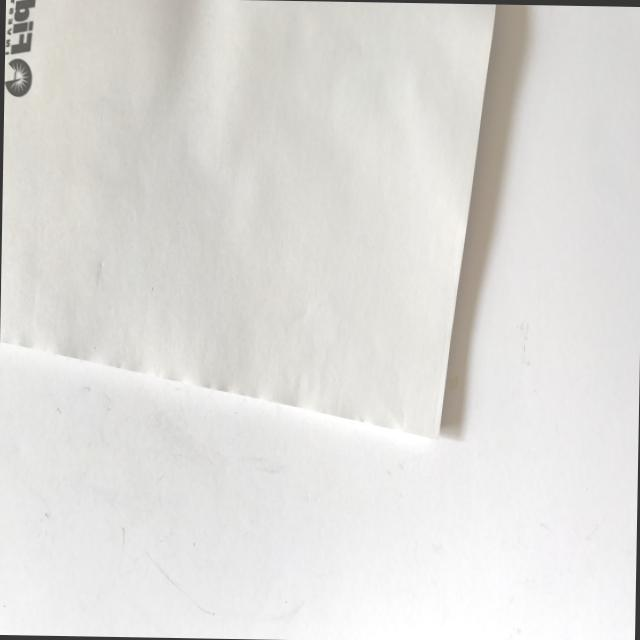Paper: (0, 0, 515, 454)
